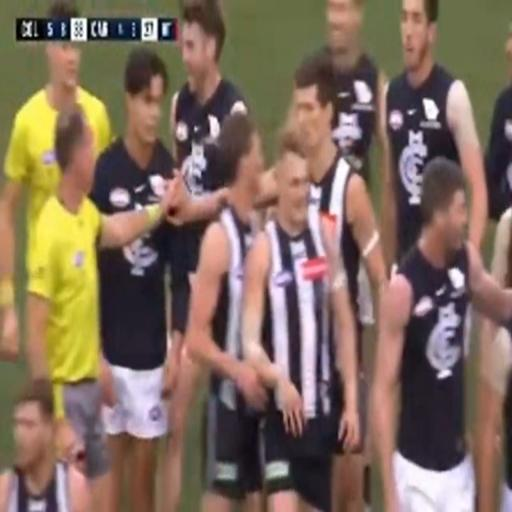nao-violencia: (20, 47, 372, 358)
